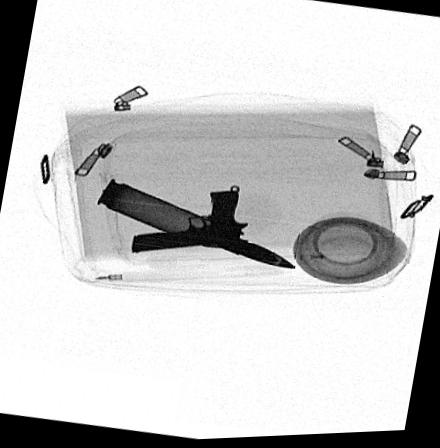Bullet: (95, 179, 295, 270)
Gun: (129, 191, 244, 254)
